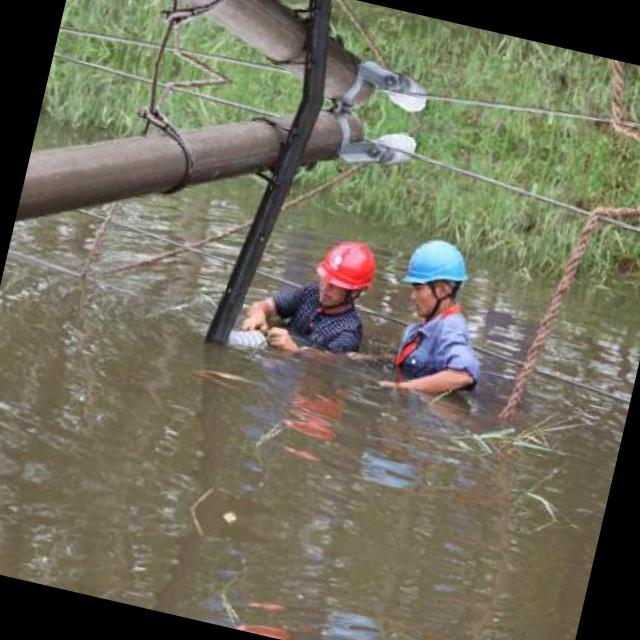helmet: (393, 227, 477, 320), (303, 228, 385, 315)
